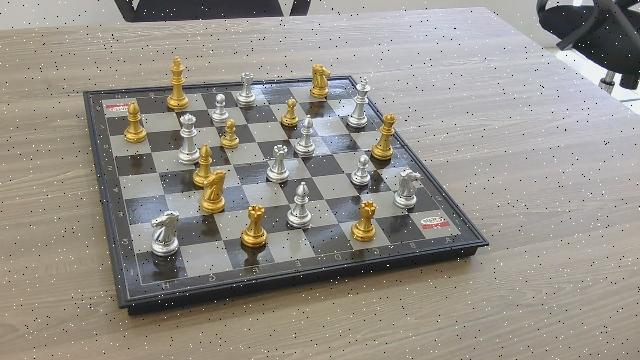black_bishop: (124, 99, 145, 143), (195, 143, 215, 185)
black_king: (165, 54, 188, 107)
black_knight: (200, 169, 228, 213), (308, 64, 330, 100)
black_pawn: (279, 98, 299, 128), (220, 118, 238, 150)
black_queen: (371, 113, 399, 161)
black_rook: (348, 200, 378, 244), (239, 205, 268, 248)
white_bishop: (285, 181, 310, 228), (297, 113, 315, 157)
white_king: (348, 76, 370, 128)
white_knight: (148, 209, 180, 257), (392, 168, 425, 209)
white_pawn: (350, 155, 371, 186), (210, 93, 227, 122)
white_queen: (178, 112, 195, 160)
white_rook: (266, 144, 288, 182), (236, 72, 256, 107)
